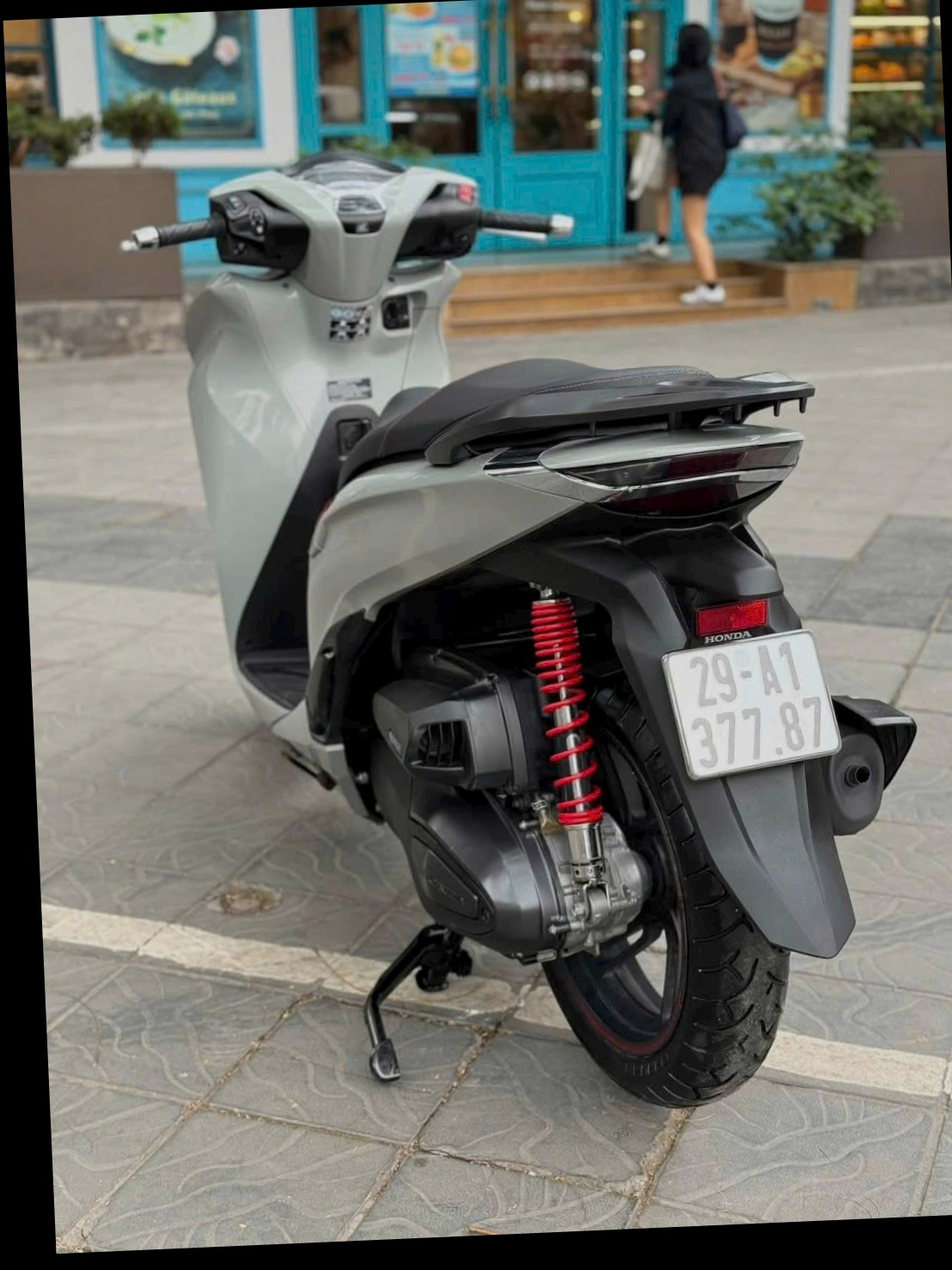Bien-so: (633, 626, 833, 790)
